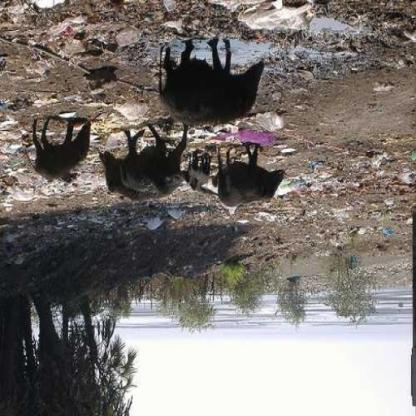boar: (158, 34, 266, 126), (94, 114, 193, 205), (206, 137, 301, 212), (23, 110, 100, 194)
